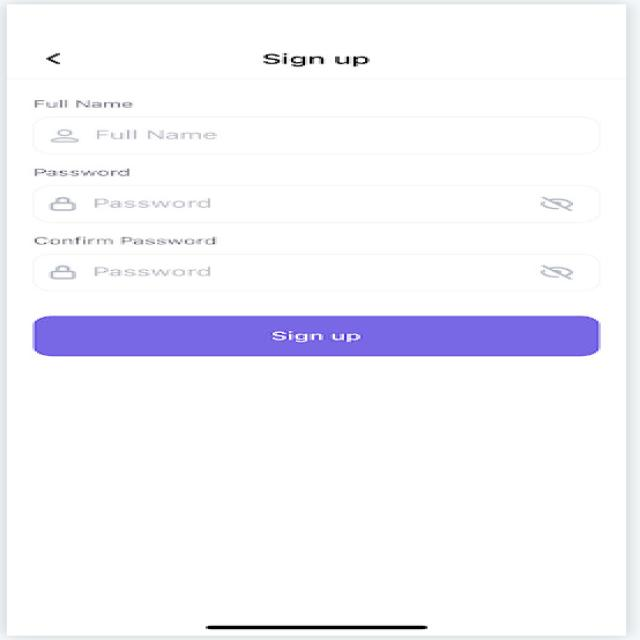button: (15, 308, 611, 366)
icon button: (26, 42, 105, 76)
input: (12, 88, 622, 166), (12, 158, 620, 234), (15, 225, 620, 296)
text: (246, 48, 389, 72)
